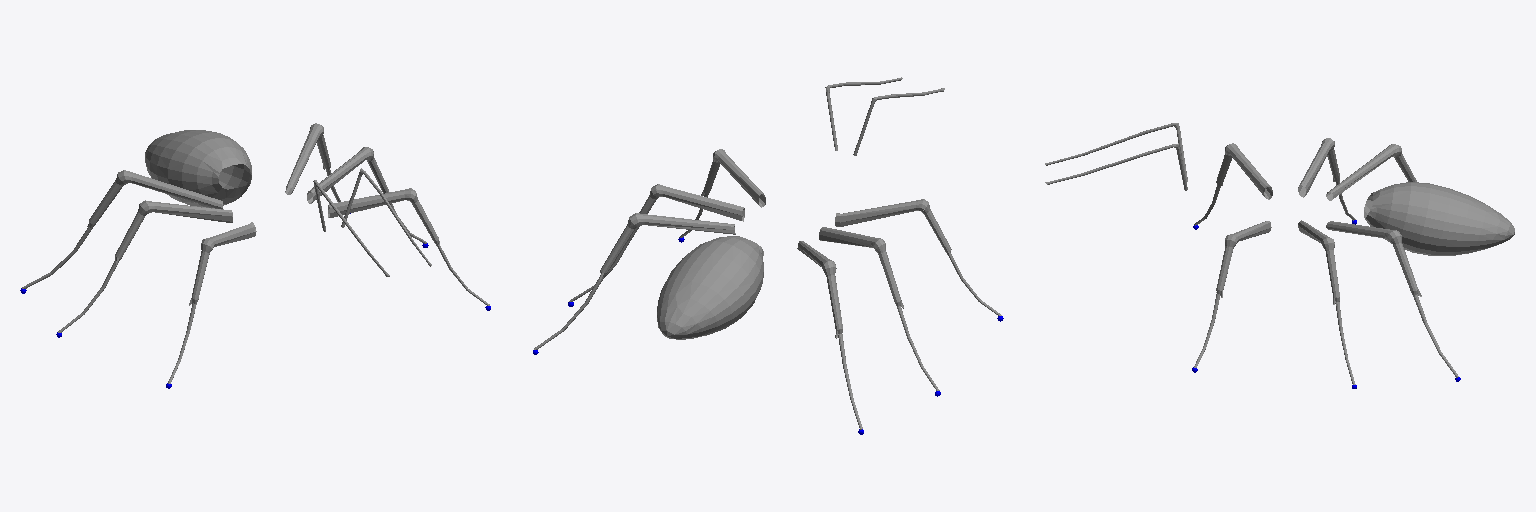
--- Facts derived from the render (not from the file) ---
The picture shows the robot from 3 angles, left to right: view 1: azimuth 30°, elevation 25°; view 2: azimuth 150°, elevation 25°; view 3: azimuth 270°, elevation 25°; orthographic projection.
Robot: articulated_ant — 80 links, 79 joints (72 revolute, 7 fixed); root link base_link; default pose: all joints at 0.
Visible links, largest first — view 1: Abdomen, RBThigh, RMThigh, LFThigh, LMThigh, LBThigh, RFThigh; view 2: Abdomen, LMThigh, LBThigh, RFThigh, LFThigh, RMThigh, RBShank; view 3: Abdomen, RBThigh, RFThigh, RMThigh, LBThigh, LBShank.
Boxes of the visible links, box(x1,y1,x2,y2) form: Abdomen: box(145, 130, 251, 207); RBThigh: box(118, 170, 222, 208); RMThigh: box(140, 200, 232, 222); LFThigh: box(328, 188, 416, 217); LMThigh: box(307, 147, 373, 203); LBThigh: box(285, 123, 323, 194); RFThigh: box(201, 222, 256, 249); Abdomen: box(657, 236, 763, 339); LMThigh: box(651, 184, 744, 221); LBThigh: box(629, 213, 735, 234); RFThigh: box(835, 199, 928, 226); LFThigh: box(713, 149, 765, 207); RMThigh: box(819, 227, 885, 250); RBShank: box(824, 267, 842, 332); Abdomen: box(1364, 182, 1514, 255); RBThigh: box(1326, 144, 1401, 200); RFThigh: box(1225, 143, 1272, 199); RMThigh: box(1298, 138, 1334, 197); LBThigh: box(1326, 221, 1401, 240); LBShank: box(1390, 236, 1419, 293).
Size in the robot's own frame: 0.7066 by 0.8426 by 0.3466 metres.
Meshes: 25 distinct files referenced, 23 mesh visuals loaded (23 binary STL); not drawn: 2 (reference not matched to a file when rendering).

robot.urdf — articulated_ant:
<?xml version="1.0"?>
<robot name="articulated_ant">

  <material name="Blue"> <!-- for spheres -->
    <color rgba="0 0 1 0.5"/>
  </material>
  <material name="White">
    <color rgba="1 1 1 1"/>
  </material>
  <material name="Gray">
    <color rgba="0.6 0.6 0.6 1"/>
  </material>

  <link name="base_link"/>
  <joint name="base_link_J" type="fixed">
      <parent link="base_link"/>
      <child link="Thorax"/>
      <origin rpy="0 0 0" xyz="0 0 0"/>
   </joint>

  <link name="Thorax">
      <inertial>
         <origin rpy="0 0 0" xyz="0 0 0"/>
         <mass value="1"/>
         <inertia ixx="0" ixy="0" ixz="0" iyy="0" iyz="0" izz="0"/>
      </inertial>
      <visual>
         <origin xyz="0 0 0" rpy="0 0 0"/>
         <geometry>
            <mesh filename="package://hpp-rbprm-corba/meshes/ant/Thorax.stl"/>
         </geometry>
         <material name="Gray"/>
      </visual>
      <collision>
         <origin xyz="0 0 0" rpy="0 0 0"/>
         <geometry>
            <mesh filename="package://hpp-rbprm-corba/meshes/ant/Thorax.stl"/>
         </geometry>
      </collision>
   </link>

   <link name="ThoraxAbdomen_J1"/>
   <link name="ThoraxAbdomen_J2"/>
   <link name="Abdomen">
      <inertial>
         <origin rpy="0 0 0" xyz="0 0 0"/>
         <mass value="0"/>
         <inertia ixx="0" ixy="0" ixz="0" iyy="0" iyz="0" izz="0"/>
      </inertial>
      <visual>
         <origin xyz="0 0 0" rpy="0 0 0"/>
         <geometry>
            <mesh filename="package://hpp-rbprm-corba/meshes/ant/Abdomen.stl"/>
         </geometry>
         <material name="Gray"/>
      </visual>
      <collision>
         <origin xyz="0 0 0" rpy="0 0 0"/>
         <geometry>
            <mesh filename="package://hpp-rbprm-corba/meshes/ant/Abdomen.stl"/>
         </geometry>
      </collision>
   </link>
   <link name="ThoraxHead_J1"/>
   <link name="ThoraxHead_J2"/>
   <link name="Head">
      <inertial>
         <origin rpy="0 0 0" xyz="0 0 0"/>
         <mass value="4.2276"/>
         <inertia ixx="0.0071027" ixy="-0.00059867" ixz="-2.9564e-05" iyy="0.0046194" iyz="6.6519e-05" izz="0.0080488"/>
      </inertial>
      <visual>
         <origin xyz="0 0 0" rpy="0 0 0"/>
         <geometry>
            <mesh filename="package://hpp-rbprm-corba/meshes/ant/Skull.stl"/>
         </geometry>
         <material name="Gray"/>
      </visual>
      <collision>
         <origin xyz="0 0 0" rpy="0 0 0"/>
         <geometry>
            <mesh filename="package://hpp-rbprm-corba/meshes/ant/Skull.stl"/>
         </geometry>
      </collision>
   </link>

   <link name="HeadLAntena_J1"/>
   <link name="HeadLAntena_J2"/>
   <link name="LAntena">
      <inertial>
         <origin rpy="0 0 0" xyz="0 0 0"/>
         <mass value="1"/>
         <inertia ixx="0.0071027" ixy="-0.00059867" ixz="-2.9564e-05" iyy="0.0046194" iyz="6.6519e-05" izz="0.0080488"/>
      </inertial>
      <visual>
         <origin xyz="0 0 0" rpy="0 0 0"/>
         <geometry>
            <mesh filename="package://hpp-rbprm-corba/meshes/ant/LAntena.stl"/>
         </geometry>
         <material name="Gray"/>
      </visual>
      <collision>
         <origin xyz="0 0 0" rpy="0 0 0"/>
         <geometry>
            <mesh filename="package://hpp-rbprm-corba/meshes/ant/LAntena.stl"/>
         </geometry>
      </collision>
   </link>

   <link name="HeadLAntenaFoot_J1"/>
   <link name="HeadLAntenaFoot_J2"/>
   <link name="LAntenaFoot">
      <inertial>
         <origin rpy="0 0 0" xyz="0 0 0"/>
         <mass value="1"/>
         <inertia ixx="0.0071027" ixy="-0.00059867" ixz="-2.9564e-05" iyy="0.0046194" iyz="6.6519e-05" izz="0.0080488"/>
      </inertial>
      <visual>
         <origin xyz="0 0 0" rpy="0 0 0"/>
         <geometry>
            <mesh filename="package://hpp-rbprm-corba/meshes/ant/LAntenaFoot.stl"/>
         </geometry>
         <material name="Gray"/>
      </visual>
      <collision>
         <origin xyz="0 0 0" rpy="0 0 0"/>
         <geometry>
            <mesh filename="package://hpp-rbprm-corba/meshes/ant/LAntenaFoot.stl"/>
         </geometry>
      </collision>
   </link>
   
   <link name="HeadRAntena_J1"/>
   <link name="HeadRAntena_J2"/>
   <link name="RAntena">
      <inertial>
         <origin rpy="0 0 0" xyz="0 0 0"/>
         <mass value="1"/>
         <inertia ixx="0.0071027" ixy="-0.00059867" ixz="-2.9564e-05" iyy="0.0046194" iyz="6.6519e-05" izz="0.0080488"/>
      </inertial>
      <visual>
         <origin xyz="0 0 0" rpy="0 0 0"/>
         <geometry>
            <mesh filename="package://hpp-rbprm-corba/meshes/ant/RAntena.stl"/>
         </geometry>
         <material name="Gray"/>
      </visual>
      <collision>
         <origin xyz="0 0 0" rpy="0 0 0"/>
         <geometry>
            <mesh filename="package://hpp-rbprm-corba/meshes/ant/RAntena.stl"/>
         </geometry>
      </collision>
   </link>

   <link name="HeadRAntenaFoot_J1"/>
   <link name="HeadRAntenaFoot_J2"/>
   <link name="RAntenaFoot">
      <inertial>
         <origin rpy="0 0 0" xyz="0 0 0"/>
         <mass value="1"/>
         <inertia ixx="0.0071027" ixy="-0.00059867" ixz="-2.9564e-05" iyy="0.0046194" iyz="6.6519e-05" izz="0.0080488"/>
      </inertial>
      <visual>
         <origin xyz="0 0 0" rpy="0 0 0"/>
         <geometry>
            <mesh filename="package://hpp-rbprm-corba/meshes/ant/RAntenaFoot.stl"/>
         </geometry>
         <material name="Gray"/>
      </visual>
      <collision>
         <origin xyz="0 0 0" rpy="0 0 0"/>
         <geometry>
            <mesh filename="package://hpp-rbprm-corba/meshes/ant/RAntenaFoot.stl"/>
         </geometry>
      </collision>
   </link>
   
   <!-- L = left, R = right, F = front, M = middle, B = back -->
   <link name="ThoraxLFThigh_J1"/>
   <link name="ThoraxLFThigh_J2"/>
   <link name="LFThigh">
      <inertial>
         <origin rpy="0 0 0" xyz="0 0 0"/>
         <mass value="1"/>
         <inertia ixx="0.0071027" ixy="-0.00059867" ixz="-2.9564e-05" iyy="0.0046194" iyz="6.6519e-05" izz="0.0080488"/>
      </inertial>
      <visual>
         <origin xyz="0 0 0" rpy="0 0 0"/>
         <geometry>
            <mesh filename="package://hpp-rbprm-corba/meshes/ant/LFThigh.stl"/>
         </geometry>
         <material name="Gray"/>
      </visual>
      <collision>
         <origin xyz="0 0 0" rpy="0 0 0"/>
         <geometry>
            <mesh filename="package://hpp-rbprm-corba/meshes/ant/LFThigh.stl"/>
         </geometry>
      </collision>
   </link>
   
   <link name="ThoraxLFShank_J1"/>
   <link name="ThoraxLFShank_J2"/>
   <link name="LFShank">
      <inertial>
         <origin rpy="0 0 0" xyz="0 0 0"/>
         <mass value="1"/>
         <inertia ixx="0.0071027" ixy="-0.00059867" ixz="-2.9564e-05" iyy="0.0046194" iyz="6.6519e-05" izz="0.0080488"/>
      </inertial>
      <visual>
         <origin xyz="0 0 0" rpy="0 0 0"/>
         <geometry>
            <mesh filename="package://hpp-rbprm-corba/meshes/ant/LFShank.stl"/>
         </geometry>
         <material name="Gray"/>
      </visual>
      <collision>
         <origin xyz="0 0 0" rpy="0 0 0"/>
         <geometry>
            <mesh filename="package://hpp-rbprm-corba/meshes/ant/LFShank.stl"/>
         </geometry>
      </collision>
   </link>
   
   <link name="ThoraxLFFoot_J1"/>
   <link name="ThoraxLFFoot_J2"/>
   <link name="LFFoot">
      <inertial>
         <origin rpy="0 0 0" xyz="0 0 0"/>
         <mass value="1"/>
         <inertia ixx="0.0071027" ixy="-0.00059867" ixz="-2.9564e-05" iyy="0.0046194" iyz="6.6519e-05" izz="0.0080488"/>
      </inertial>
      <visual>
         <origin xyz="0 0 0" rpy="0 0 0"/>
         <geometry>
            <mesh filename="package://hpp-rbprm-corba/meshes/ant/LFFoot.stl"/>
         </geometry>
         <material name="Gray"/>
      </visual>
      <collision>
         <origin xyz="0 0 0" rpy="0 0 0"/>
         <geometry>
            <mesh filename="package://hpp-rbprm-corba/meshes/ant/LFFoot.stl"/>
         </geometry>
      </collision>
   </link>
   
   <link name="ThoraxLMThigh_J1"/>
   <link name="ThoraxLMThigh_J2"/>
   <link name="LMThigh">
      <inertial>
         <origin rpy="0 0 0" xyz="0 0 0"/>
         <mass value="1"/>
         <inertia ixx="0.0071027" ixy="-0.00059867" ixz="-2.9564e-05" iyy="0.0046194" iyz="6.6519e-05" izz="0.0080488"/>
      </inertial>
      <visual>
         <origin xyz="0 0 0" rpy="0 0 0"/>
         <geometry>
            <mesh filename="package://hpp-rbprm-corba/meshes/ant/LMThigh.stl"/>
         </geometry>
         <material name="Gray"/>
      </visual>
      <collision>
         <origin xyz="0 0 0" rpy="0 0 0"/>
         <geometry>
            <mesh filename="package://hpp-rbprm-corba/meshes/ant/LMThigh.stl"/>
         </geometry>
      </collision>
   </link>
   
   <link name="ThoraxLMShank_J1"/>
   <link name="ThoraxLMShank_J2"/>
   <link name="LMShank">
      <inertial>
         <origin rpy="0 0 0" xyz="0 0 0"/>
         <mass value="1"/>
         <inertia ixx="0.0071027" ixy="-0.00059867" ixz="-2.9564e-05" iyy="0.0046194" iyz="6.6519e-05" izz="0.0080488"/>
      </inertial>
      <visual>
         <origin xyz="0 0 0" rpy="0 0 0"/>
         <geometry>
            <mesh filename="package://hpp-rbprm-corba/meshes/ant/LMShank.stl"/>
         </geometry>
         <material name="Gray"/>
      </visual>
      <collision>
         <origin xyz="0 0 0" rpy="0 0 0"/>
         <geometry>
            <mesh filename="package://hpp-rbprm-corba/meshes/ant/LMShank.stl"/>
         </geometry>
      </collision>
   </link>
   
   <link name="ThoraxLMFoot_J1"/>
   <link name="ThoraxLMFoot_J2"/>
   <link name="LMFoot">
      <inertial>
         <origin rpy="0 0 0" xyz="0 0 0"/>
         <mass value="1"/>
         <inertia ixx="0.0071027" ixy="-0.00059867" ixz="-2.9564e-05" iyy="0.0046194" iyz="6.6519e-05" izz="0.0080488"/>
      </inertial>
      <visual>
         <origin xyz="0 0 0" rpy="0 0 0"/>
         <geometry>
            <mesh filename="package://hpp-rbprm-corba/meshes/ant/LMFoot.stl"/>
         </geometry>
         <material name="Gray"/>
      </visual>
      <collision>
         <origin xyz="0 0 0" rpy="0 0 0"/>
         <geometry>
            <mesh filename="package://hpp-rbprm-corba/meshes/ant/LMFoot.stl"/>
         </geometry>
      </collision>
   </link>
   
   <link name="ThoraxLBThigh_J1"/>
   <link name="ThoraxLBThigh_J2"/>
   <link name="LBThigh">
      <inertial>
         <origin rpy="0 0 0" xyz="0 0 0"/>
         <mass value="1"/>
         <inertia ixx="0.0071027" ixy="-0.00059867" ixz="-2.9564e-05" iyy="0.0046194" iyz="6.6519e-05" izz="0.0080488"/>
      </inertial>
      <visual>
         <origin xyz="0 0 0" rpy="0 0 0"/>
         <geometry>
            <mesh filename="package://hpp-rbprm-corba/meshes/ant/LBThigh.stl"/>
         </geometry>
         <material name="Gray"/>
      </visual>
      <collision>
         <origin xyz="0 0 0" rpy="0 0 0"/>
         <geometry>
            <mesh filename="package://hpp-rbprm-corba/meshes/ant/LBThigh.stl"/>
         </geometry>
      </collision>
   </link>
   
   <link name="ThoraxLBShank_J1"/>
   <link name="ThoraxLBShank_J2"/>
   <link name="LBShank">
      <inertial>
         <origin rpy="0 0 0" xyz="0 0 0"/>
         <mass value="1"/>
         <inertia ixx="0.0071027" ixy="-0.00059867" ixz="-2.9564e-05" iyy="0.0046194" iyz="6.6519e-05" izz="0.0080488"/>
      </inertial>
      <visual>
         <origin xyz="0 0 0" rpy="0 0 0"/>
         <geometry>
            <mesh filename="package://hpp-rbprm-corba/meshes/ant/LBShank.stl"/>
         </geometry>
         <material name="Gray"/>
      </visual>
      <collision>
         <origin xyz="0 0 0" rpy="0 0 0"/>
         <geometry>
            <mesh filename="package://hpp-rbprm-corba/meshes/ant/LBShank.stl"/>
         </geometry>
      </collision>
   </link>
   
   <link name="ThoraxLBFoot_J1"/>
   <link name="ThoraxLBFoot_J2"/>
   <link name="LBFoot">
      <inertial>
         <origin rpy="0 0 0" xyz="0 0 0"/>
         <mass value="1"/>
         <inertia ixx="0.0071027" ixy="-0.00059867" ixz="-2.9564e-05" iyy="0.0046194" iyz="6.6519e-05" izz="0.0080488"/>
      </inertial>
      <visual>
         <origin xyz="0 0 0" rpy="0 0 0"/>
         <geometry>
            <mesh filename="package://hpp-rbprm-corba/meshes/ant/LBFoot.stl"/>
         </geometry>
         <material name="Gray"/>
      </visual>
      <collision>
         <origin xyz="0 0 0" rpy="0 0 0"/>
         <geometry>
            <mesh filename="package://hpp-rbprm-corba/meshes/ant/LBFoot.stl"/>
         </geometry>
      </collision>
   </link>
   
      <link name="ThoraxRFThigh_J1"/>
   <link name="ThoraxRFThigh_J2"/>
   <link name="RFThigh">
      <inertial>
         <origin rpy="0 0 0" xyz="0 0 0"/>
         <mass value="1"/>
         <inertia ixx="0.0071027" ixy="-0.00059867" ixz="-2.9564e-05" iyy="0.0046194" iyz="6.6519e-05" izz="0.0080488"/>
      </inertial>
      <visual>
         <origin xyz="0 0 0" rpy="0 0 0"/>
         <geometry>
            <mesh filename="package://hpp-rbprm-corba/meshes/ant/RFThigh.stl"/>
         </geometry>
         <material name="Gray"/>
      </visual>
      <collision>
         <origin xyz="0 0 0" rpy="0 0 0"/>
         <geometry>
            <mesh filename="package://hpp-rbprm-corba/meshes/ant/RFThigh.stl"/>
         </geometry>
      </collision>
   </link>
   
   <link name="ThoraxRFShank_J1"/>
   <link name="ThoraxRFShank_J2"/>
   <link name="RFShank">
      <inertial>
         <origin rpy="0 0 0" xyz="0 0 0"/>
         <mass value="1"/>
         <inertia ixx="0.0071027" ixy="-0.00059867" ixz="-2.9564e-05" iyy="0.0046194" iyz="6.6519e-05" izz="0.0080488"/>
      </inertial>
      <visual>
         <origin xyz="0 0 0" rpy="0 0 0"/>
         <geometry>
            <mesh filename="package://hpp-rbprm-corba/meshes/ant/RFShank.stl"/>
         </geometry>
         <material name="Gray"/>
      </visual>
      <collision>
         <origin xyz="0 0 0" rpy="0 0 0"/>
         <geometry>
            <mesh filename="package://hpp-rbprm-corba/meshes/ant/RFShank.stl"/>
         </geometry>
      </collision>
   </link>
   
   <link name="ThoraxRFFoot_J1"/>
   <link name="ThoraxRFFoot_J2"/>
   <link name="RFFoot">
      <inertial>
         <origin rpy="0 0 0" xyz="0 0 0"/>
         <mass value="1"/>
         <inertia ixx="0.0071027" ixy="-0.00059867" ixz="-2.9564e-05" iyy="0.0046194" iyz="6.6519e-05" izz="0.0080488"/>
      </inertial>
      <visual>
         <origin xyz="0 0 0" rpy="0 0 0"/>
         <geometry>
            <mesh filename="package://hpp-rbprm-corba/meshes/ant/RFFoot.stl"/>
         </geometry>
         <material name="Gray"/>
      </visual>
      <collision>
         <origin xyz="0 0 0" rpy="0 0 0"/>
         <geometry>
            <mesh filename="package://hpp-rbprm-corba/meshes/ant/RFFoot.stl"/>
         </geometry>
      </collision>
   </link>
   
   <link name="ThoraxRMThigh_J1"/>
   <link name="ThoraxRMThigh_J2"/>
   <link name="RMThigh">
      <inertial>
         <origin rpy="0 0 0" xyz="0 0 0"/>
         <mass value="1"/>
         <inertia ixx="0.0071027" ixy="-0.00059867" ixz="-2.9564e-05" iyy="0.0046194" iyz="6.6519e-05" izz="0.0080488"/>
      </inertial>
      <visual>
         <origin xyz="0 0 0" rpy="0 0 0"/>
         <geometry>
            <mesh filename="package://hpp-rbprm-corba/meshes/ant/RMThigh.stl"/>
         </geometry>
         <material name="Gray"/>
      </visual>
      <collision>
         <origin xyz="0 0 0" rpy="0 0 0"/>
         <geometry>
            <mesh filename="package://hpp-rbprm-corba/meshes/ant/RMThigh.stl"/>
         </geometry>
      </collision>
   </link>
   
   <link name="ThoraxRMShank_J1"/>
   <link name="ThoraxRMShank_J2"/>
   <link name="RMShank">
      <inertial>
         <origin rpy="0 0 0" xyz="0 0 0"/>
         <mass value="1"/>
         <inertia ixx="0.0071027" ixy="-0.00059867" ixz="-2.9564e-05" iyy="0.0046194" iyz="6.6519e-05" izz="0.0080488"/>
      </inertial>
      <visual>
         <origin xyz="0 0 0" rpy="0 0 0"/>
         <geometry>
            <mesh filename="package://hpp-rbprm-corba/meshes/ant/RMShank.stl"/>
         </geometry>
         <material name="Gray"/>
      </visual>
      <collision>
         <origin xyz="0 0 0" rpy="0 0 0"/>
         <geometry>
            <mesh filename="package://hpp-rbprm-corba/meshes/ant/RMShank.stl"/>
         </geometry>
      </collision>
   </link>
   
   <link name="ThoraxRMFoot_J1"/>
   <link name="ThoraxRMFoot_J2"/>
   <link name="RMFoot">
      <inertial>
         <origin rpy="0 0 0" xyz="0 0 0"/>
         <mass value="1"/>
         <inertia ixx="0.0071027" ixy="-0.00059867" ixz="-2.9564e-05" iyy="0.0046194" iyz="6.6519e-05" izz="0.0080488"/>
      </inertial>
      <visual>
         <origin xyz="0 0 0" rpy="0 0 0"/>
         <geometry>
            <mesh filename="package://hpp-rbprm-corba/meshes/ant/RMFoot.stl"/>
         </geometry>
         <material name="Gray"/>
      </visual>
      <collision>
         <origin xyz="0 0 0" rpy="0 0 0"/>
         <geometry>
            <mesh filename="package://hpp-rbprm-corba/meshes/ant/RMFoot.stl"/>
         </geometry>
      </collision>
   </link>
   
   <link name="ThoraxRBThigh_J1"/>
   <link name="ThoraxRBThigh_J2"/>
   <link name="RBThigh">
      <inertial>
         <origin rpy="0 0 0" xyz="0 0 0"/>
         <mass value="1"/>
         <inertia ixx="0.0071027" ixy="-0.00059867" ixz="-2.9564e-05" iyy="0.0046194" iyz="6.6519e-05" izz="0.0080488"/>
      </inertial>
      <visual>
         <origin xyz="0 0 0" rpy="0 0 0"/>
         <geometry>
            <mesh filename="package://hpp-rbprm-corba/meshes/ant/RBThigh.stl"/>
         </geometry>
         <material name="Gray"/>
      </visual>
      <collision>
         <origin xyz="0 0 0" rpy="0 0 0"/>
         <geometry>
            <mesh filename="package://hpp-rbprm-corba/meshes/ant/RBThigh.stl"/>
         </geometry>
      </collision>
   </link>
   
   <link name="ThoraxRBShank_J1"/>
   <link name="ThoraxRBShank_J2"/>
   <link name="RBShank">
      <inertial>
         <origin rpy="0 0 0" xyz="0 0 0"/>
         <mass value="1"/>
         <inertia ixx="0.0071027" ixy="-0.00059867" ixz="-2.9564e-05" iyy="0.0046194" iyz="6.6519e-05" izz="0.0080488"/>
      </inertial>
      <visual>
         <origin xyz="0 0 0" rpy="0 0 0"/>
         <geometry>
            <mesh filename="package://hpp-rbprm-corba/meshes/ant/RBShank.stl"/>
         </geometry>
         <material name="Gray"/>
      </visual>
      <collision>
         <origin xyz="0 0 0" rpy="0 0 0"/>
         <geometry>
            <mesh filename="package://hpp-rbprm-corba/meshes/ant/RBShank.stl"/>
         </geometry>
      </collision>
   </link>
   
   <link name="ThoraxRBFoot_J1"/>
   <link name="ThoraxRBFoot_J2"/>
   <link name="RBFoot">
      <inertial>
         <origin rpy="0 0 0" xyz="0 0 0"/>
         <mass value="1"/>
         <inertia ixx="0.0071027" ixy="-0.00059867" ixz="-2.9564e-05" iyy="0.0046194" iyz="6.6519e-05" izz="0.0080488"/>
      </inertial>
      <visual>
         <origin xyz="0 0 0" rpy="0 0 0"/>
         <geometry>
            <mesh filename="package://hpp-rbprm-corba/meshes/ant/RBFoot.stl"/>
         </geometry>
         <material name="Gray"/>
      </visual>
      <collision>
         <origin xyz="0 0 0" rpy="0 0 0"/>
         <geometry>
            <mesh filename="package://hpp-rbprm-corba/meshes/ant/RBFoot.stl"/>
         </geometry>
      </collision>
   </link>

   <!-- end-effector spheres -->
  <link name="LFFootSphere">
      <visual>
         <origin xyz="0 0 0" rpy="0 0 0"/>
         <geometry>
            <sphere radius="0.005"/>
         </geometry>
         <material name="Blue"/>
      </visual>
      <collision>
         <origin xyz="0 0 0" rpy="0 0 0"/>
         <geometry>
            <sphere radius="0.005"/>
         </geometry>
      </collision>
   </link>
  <link name="LMFootSphere">
      <visual>
         <origin xyz="0 0 0" rpy="0 0 0"/>
         <geometry>
            <sphere radius="0.005"/>
         </geometry>
         <material name="Blue"/>
      </visual>
      <collision>
         <origin xyz="0 0 0" rpy="0 0 0"/>
         <geometry>
            <sphere radius="0.005"/>
         </geometry>
      </collision>
   </link>
  <link name="LBFootSphere">
      <visual>
         <origin xyz="0 0 0" rpy="0 0 0"/>
         <geometry>
            <sphere radius="0.005"/>
         </geometry>
         <material name="Blue"/>
      </visual>
      <collision>
         <origin xyz="0 0 0" rpy="0 0 0"/>
         <geometry>
            <sphere radius="0.005"/>
         </geometry>
      </collision>
   </link>
  <link name="RFFootSphere">
      <visual>
         <origin xyz="0 0 0" rpy="0 0 0"/>
         <geometry>
            <sphere radius="0.005"/>
         </geometry>
         <material name="Blue"/>
      </visual>
      <collision>
         <origin xyz="0 0 0" rpy="0 0 0"/>
         <geometry>
            <sphere radius="0.005"/>
         </geometry>
      </collision>
   </link>
  <link name="RMFootSphere">
      <visual>
         <origin xyz="0 0 0" rpy="0 0 0"/>
         <geometry>
            <sphere radius="0.005"/>
         </geometry>
         <material name="Blue"/>
      </visual>
      <collision>
         <origin xyz="0 0 0" rpy="0 0 0"/>
         <geometry>
            <sphere radius="0.005"/>
         </geometry>
      </collision>
   </link>
  <link name="RBFootSphere">
      <visual>
         <origin xyz="0 0 0" rpy="0 0 0"/>
         <geometry>
            <sphere radius="0.005"/>
         </geometry>
         <material name="Blue"/>
      </visual>
      <collision>
         <origin xyz="0 0 0" rpy="0 0 0"/>
         <geometry>
            <sphere radius="0.005"/>
         </geometry>
      </collision>
   </link>

   <!-- JOINTS -->
  <joint name="ThoraxAbdomen_J1" type="revolute">
      <parent link="Thorax"/>
      <child link="ThoraxAbdomen_J1"/>
      <origin rpy="0 0 0" xyz="0 0.15853 0.19806"/>
      <axis xyz="1 0 0"/>
      <limit effort="0" lower="-0.2" upper="0.2" velocity="1.0"/>
   </joint>
   <joint name="ThoraxAbdomen_J2" type="revolute">
      <parent link="ThoraxAbdomen_J1"/>
      <child link="ThoraxAbdomen_J2"/>
      <origin rpy="0 0 0" xyz="0 0 0"/>
      <axis xyz="0 1 0"/>
      <limit effort="0" lower="-0.2" upper="0.2" velocity="1.0"/>
   </joint>
   <joint name="Abdomen" type="revolute">
      <parent link="ThoraxAbdomen_J1"/>
      <child link="Abdomen"/>
      <origin rpy="0 0 0" xyz="0 0 0"/>
      <axis xyz="0 0 1"/>
      <limit effort="0" lower="-0.2" upper="0.2" velocity="1.0"/>
   </joint>
   <joint name="ThoraxHead_J1" type="revolute">
      <parent link="Thorax"/>
      <child link="ThoraxHead_J1"/>
      <origin rpy="0 0 0" xyz="0 -0.06471 0.21279"/>
      <axis xyz="1 0 0"/>
      <limit effort="0" lower="-0.2" upper="0.2" velocity="1.0"/>
   </joint>
   <joint name="ThoraxHead_J2" type="revolute">
      <parent link="ThoraxHead_J1"/>
      <child link="ThoraxHead_J2"/>
      <origin rpy="0 0 0" xyz="0 0 0"/>
      <axis xyz="0 1 0"/>
      <limit effort="0" lower="-0.2" upper="0.2" velocity="1.0"/>
   </joint>
   <joint name="Head" type="revolute">
      <parent link="ThoraxHead_J2"/>
      <child link="Head"/>
      <origin rpy="0 0 0" xyz="0 0 0"/>
      <axis xyz="0 0 1"/>
      <limit effort="0" lower="-0.2" upper="0.2" velocity="1.0"/>
   </joint>
   
   <joint name="HeadLAntena_J1" type="revolute">
      <parent link="Head"/>
      <child link="HeadLAntena_J1"/>
      <origin rpy="0 0 0" xyz="0.0176 -0.1027 0.0225"/>
      <axis xyz="1 0 0"/>
      <limit effort="0" lower="-0.4" upper="0.4" velocity="1.0"/>
   </joint>
   <joint name="HeadLAntena_J2" type="revolute">
      <parent link="HeadLAntena_J1"/>
      <child link="HeadLAntena_J2"/>
      <origin rpy="0 0 0" xyz="0 0 0"/>
      <axis xyz="0 1 0"/>
      <limit effort="0" lower="-0.4" upper="0.4" velocity="1.0"/>
   </joint>
   <joint name="LAntena" type="revolute">
      <parent link="HeadLAntena_J2"/>
      <child link="LAntena"/>
      <origin rpy="0 0 0" xyz="0 0 0"/>
      <axis xyz="0 0 1"/>
      <limit effort="0" lower="-0.2" upper="0.2" velocity="1.0"/>
   </joint>
   <joint name="HeadLAntenaFoot_J1" type="revolute">
      <parent link="LAntena"/>
      <child link="HeadLAntenaFoot_J1"/>
      <origin rpy="0 0 0" xyz="0.0267 -0.0198 0.1006"/>
      <axis xyz="1 0 0"/>
      <limit effort="0" lower="-0.4" upper="0.4" velocity="1.0"/>
   </joint>
   <joint name="HeadLAntenaFoot_J2" type="revolute">
      <parent link="HeadLAntenaFoot_J1"/>
      <child link="HeadLAntenaFoot_J2"/>
      <origin rpy="0 0 0" xyz="0 0 0"/>
      <axis xyz="0 1 0"/>
      <limit effort="0" lower="-0.4" upper="0.4" velocity="1.0"/>
   </joint>
   <joint name="LAntenaFoot" type="revolute">
      <parent link="HeadLAntenaFoot_J2"/>
      <child link="LAntenaFoot"/>
      <origin rpy="0 0 0" xyz="0 0 0"/>
      <axis xyz="0 0 1"/>
      <limit effort="0" lower="-0.2" upper="0.2" velocity="1.0"/>
   </joint>
   
   <joint name="HeadRAntena_J1" type="revolute">
      <parent link="Head"/>
      <child link="HeadRAntena_J1"/>
      <origin rpy="0 0 0" xyz="-0.0168 -0.1029 0.0226"/>
      <axis xyz="1 0 0"/>
      <limit effort="0" lower="-0.4" upper="0.4" velocity="1.0"/>
   </joint>
   <joint name="HeadRAntena_J2" type="revolute">
      <parent link="HeadRAntena_J1"/>
      <child link="HeadRAntena_J2"/>
      <origin rpy="0 0 0" xyz="0 0 0"/>
      <axis xyz="0 1 0"/>
      <limit effort="0" lower="-0.4" upper="0.4" velocity="1.0"/>
   </joint>
   <joint name="RAntena" type="revolute">
      <parent link="HeadRAntena_J2"/>
      <child link="RAntena"/>
      <origin rpy="0 0 0" xyz="0 0 0"/>
      <axis xyz="0 0 1"/>
      <limit effort="0" lower="-0.2" upper="0.2" velocity="1.0"/>
   </joint>
   <joint name="HeadRAntenaFoot_J1" type="revolute">
      <parent link="RAntena"/>
      <child link="HeadRAntenaFoot_J1"/>
      <origin rpy="0 0 0" xyz="-0.0279 -0.0202 0.1006"/>
      <axis xyz="1 0 0"/>
      <limit effort="0" lower="-0.4" upper="0.4" velocity="1.0"/>
   </joint>
   <joint name="HeadRAntenaFoot_J2" type="revolute">
      <parent link="HeadRAntenaFoot_J1"/>
      <child link="HeadRAntenaFoot_J2"/>
      <origin rpy="0 0 0" xyz="0 0 0"/>
      <axis xyz="0 1 0"/>
      <limit effort="0" lower="-0.4" upper="0.4" velocity="1.0"/>
   </joint>
   <joint name="RAntenaFoot" type="revolute">
      <parent link="HeadRAntenaFoot_J2"/>
      <child link="RAntenaFoot"/>
      <origin rpy="0 0 0" xyz="0 0 0"/>
      <axis xyz="0 0 1"/>
      <limit effort="0" lower="-0.2" upper="0.2" velocity="1.0"/>
   </joint>
   
   <!-- left side -->
   <joint name="ThoraxLFThigh_J1" type="revolute">
      <parent link="Thorax"/>
      <child link="ThoraxLFThigh_J1"/>
      <origin rpy="0 0 0" xyz="0.0743 -0.0223 0.1894"/>
      <axis xyz="1 0 0"/>
      <limit effort="0" lower="-0.4" upper="0.4" velocity="1.0"/>
   </joint>
   <joint name="ThoraxLFThigh_J2" type="revolute">
      <parent link="ThoraxLFThigh_J1"/>
      <child link="ThoraxLFThigh_J2"/>
      <origin rpy="0 0 0" xyz="0 0 0"/>
      <axis xyz="0 1 0"/>
      <limit effort="0" lower="-0.4" upper="0.4" velocity="1.0"/>
   </joint>
   <joint name="LFThigh" type="revolute">
      <parent link="ThoraxLFThigh_J2"/>
      <child link="LFThigh"/>
      <origin rpy="0 0 0" xyz="0 0 0"/>
      <axis xyz="0 0 1"/>
      <limit effort="0" lower="-0.2" upper="0.2" velocity="1.0"/>
   </joint>
   <joint name="ThoraxLFShank_J1" type="revolute">
      <parent link="LFThigh"/>
      <child link="ThoraxLFShank_J1"/>
      <origin rpy="0 0 0" xyz="0.1217 -0.0662 0.0268"/>
      <axis xyz="1 0 0"/>
      <limit effort="0" lower="-0.4" upper="0.4" velocity="1.0"/>
   </joint>
   <joint name="ThoraxLFShank_J2" type="revolute">
      <parent link="ThoraxLFShank_J1"/>
      <child link="ThoraxLFShank_J2"/>
      <origin rpy="0 0 0" xyz="0 0 0"/>
      <axis xyz="0 1 0"/>
      <limit effort="0" lower="-0.4" upper="0.4" velocity="1.0"/>
   </joint>
   <joint name="LFShank" type="revolute">
      <parent link="ThoraxLFShank_J2"/>
      <child link="LFShank"/>
      <origin rpy="0 0 0" xyz="0 0 0"/>
      <axis xyz="0 0 1"/>
      <limit effort="0" lower="-0.2" upper="0.2" velocity="1.0"/>
   </joint>
   <joint name="ThoraxLFFoot_J1" type="revolute">
      <parent link="LFShank"/>
      <child link="ThoraxLFFoot_J1"/>
      <origin rpy="0 0 0" xyz="0.0349 -0.0208 -0.0839"/>
      <axis xyz="1 0 0"/>
      <limit effort="0" lower="-0.4" upper="0.4" velocity="1.0"/>
   </joint>
   <joint name="ThoraxLFFoot_J2" type="revolute">
      <parent link="ThoraxLFFoot_J1"/>
      <child link="ThoraxLFFoot_J2"/>
      <origin rpy="0 0 0" xyz="0 0 0"/>
      <axis xyz="0 1 0"/>
      <limit effort="0" lower="-0.4" upper="0.4" velocity="1.0"/>
   </joint>
   <joint name="LFFoot" type="revolute">
      <parent link="ThoraxLFFoot_J2"/>
      <child link="LFFoot"/>
      <origin rpy="0 0 0" xyz="0 0 0"/>
      <axis xyz="0 0 1"/>
      <limit effort="0" lower="-0.2" upper="0.2" velocity="1.0"/>
   </joint>
   
   <joint name="ThoraxLMThigh_J1" type="revolute">
      <parent link="Thorax"/>
      <child link="ThoraxLMThigh_J1"/>
      <origin rpy="0 0 0" xyz="0.07469 0.03933 0.19123"/>
      <axis xyz="1 0 0"/>
      <limit effort="0" lower="-0.4" upper="0.4" velocity="1.0"/>
   </joint>
   <joint name="ThoraxLMThigh_J2" type="revolute">
      <parent link="ThoraxLMThigh_J1"/>
      <child link="ThoraxLMThigh_J2"/>
      <origin rpy="0 0 0" xyz="0 0 0"/>
      <axis xyz="0 1 0"/>
      <limit effort="0" lower="-0.4" upper="0.4" velocity="1.0"/>
   </joint>
   <joint name="LMThigh" type="revolute">
      <parent link="ThoraxLMThigh_J2"/>
      <child link="LMThigh"/>
      <origin rpy="0 0 0" xyz="0 0 0"/>
      <axis xyz="0 0 1"/>
      <limit effort="0" lower="-0.2" upper="0.2" velocity="1.0"/>
   </joint>
   <joint name="ThoraxLMShank_J1" type="revolute">
      <parent link="LMThigh"/>
      <child link="ThoraxLMShank_J1"/>
      <origin rpy="0 0 0" xyz="0.1391 0.0483 0.0267"/>
      <axis xyz="1 0 0"/>
      <limit effort="0" lower="-0.4" upper="0.4" velocity="1.0"/>
   </joint>
   <joint name="ThoraxLMShank_J2" type="revolute">
      <parent link="ThoraxLMShank_J1"/>
      <child link="ThoraxLMShank_J2"/>
      <origin rpy="0 0 0" xyz="0 0 0"/>
      <axis xyz="0 1 0"/>
      <limit effort="0" lower="-0.4" upper="0.4" velocity="1.0"/>
   </joint>
   <joint name="LMShank" type="revolute">
      <parent link="ThoraxLMShank_J2"/>
      <child link="LMShank"/>
      <origin rpy="0 0 0" xyz="0 0 0"/>
      <axis xyz="0 0 1"/>
      <limit effort="0" lower="-0.2" upper="0.2" velocity="1.0"/>
   </joint>
   <joint name="ThoraxLMFoot_J1" type="revolute">
      <parent link="LMShank"/>
      <child link="ThoraxLMFoot_J1"/>
      <origin rpy="0 0 0" xyz="0.0420 0.0142 -0.0892"/>
      <axis xyz="1 0 0"/>
      <limit effort="0" lower="-0.4" upper="0.4" velocity="1.0"/>
   </joint>
   <joint name="ThoraxLMFoot_J2" type="revolute">
      <parent link="ThoraxLMFoot_J1"/>
      <child link="ThoraxLMFoot_J2"/>
      <origin rpy="0 0 0" xyz="0 0 0"/>
      <axis xyz="0 1 0"/>
      <limit effort="0" lower="-0.4" upper="0.4" velocity="1.0"/>
   </joint>
   <joint name="LMFoot" type="revolute">
      <parent link="ThoraxLMFoot_J2"/>
      <child link="LMFoot"/>
      <origin rpy="0 0 0" xyz="0 0 0"/>
      <axis xyz="0 0 1"/>
      <limit effort="0" lower="-0.2" upper="0.2" velocity="1.0"/>
   </joint>
   
   <joint name="ThoraxLBThigh_J1" type="revolute">
      <parent link="Thorax"/>
      <child link="ThoraxLBThigh_J1"/>
      <origin rpy="0 0 0" xyz="0.06238 0.08879 0.18588"/>
      <axis xyz="1 0 0"/>
      <limit effort="0" lower="-0.4" upper="0.4" velocity="1.0"/>
   </joint>
   <joint name="ThoraxLBThigh_J2" type="revolute">
      <parent link="ThoraxLBThigh_J1"/>
      <child link="ThoraxLBThigh_J2"/>
      <origin rpy="0 0 0" xyz="0 0 0"/>
      <axis xyz="0 1 0"/>
      <limit effort="0" lower="-0.4" upper="0.4" velocity="1.0"/>
   </joint>
   <joint name="LBThigh" type="revolute">
      <parent link="ThoraxLBThigh_J2"/>
      <child link="LBThigh"/>
      <origin rpy="0 0 0" xyz="0 0 0"/>
      <axis xyz="0 0 1"/>
      <limit effort="0" lower="-0.2" upper="0.2" velocity="1.0"/>
   </joint>
   <joint name="ThoraxLBShank_J1" type="revolute">
      <parent link="LBThigh"/>
      <child link="ThoraxLBShank_J1"/>
      <origin rpy="0 0 0" xyz="0.1238 0.1183 0.0330"/>
      <axis xyz="1 0 0"/>
      <limit effort="0" lower="-0.4" upper="0.4" velocity="1.0"/>
   </joint>
   <joint name="ThoraxLBShank_J2" type="revolute">
      <parent link="ThoraxLBShank_J1"/>
      <child link="ThoraxLBShank_J2"/>
      <origin rpy="0 0 0" xyz="0 0 0"/>
      <axis xyz="0 1 0"/>
      <limit effort="0" lower="-0.4" upper="0.4" velocity="1.0"/>
   </joint>
   <joint name="LBShank" type="revolute">
      <parent link="ThoraxLBShank_J2"/>
      <child link="LBShank"/>
      <origin rpy="0 0 0" xyz="0 0 0"/>
      <axis xyz="0 0 1"/>
      <limit effort="0" lower="-0.2" upper="0.2" velocity="1.0"/>
   </joint>
   <joint name="ThoraxLBFoot_J1" type="revolute">
      <parent link="LBShank"/>
      <child link="ThoraxLBFoot_J1"/>
      <origin rpy="0 0 0" xyz="0.0387 0.0341 -0.0900"/>
      <axis xyz="1 0 0"/>
      <limit effort="0" lower="-0.4" upper="0.4" velocity="1.0"/>
   </joint>
   <joint name="ThoraxLBFoot_J2" type="revolute">
      <parent link="ThoraxLBFoot_J1"/>
      <child link="ThoraxLBFoot_J2"/>
      <origin rpy="0 0 0" xyz="0 0 0"/>
      <axis xyz="0 1 0"/>
      <limit effort="0" lower="-0.4" upper="0.4" velocity="1.0"/>
   </joint>
   <joint name="LBFoot" type="revolute">
      <parent link="ThoraxLBFoot_J2"/>
      <child link="LBFoot"/>
      <origin rpy="0 0 0" xyz="0 0 0"/>
      <axis xyz="0 0 1"/>
      <limit effort="0" lower="-0.2" upper="0.2" velocity="1.0"/>
   </joint>
   
   <!-- right side -->
   <joint name="ThoraxRFThigh_J1" type="revolute">
      <parent link="Thorax"/>
      <child link="ThoraxRFThigh_J1"/>
      <origin rpy="0 0 0" xyz="-0.07030 -0.02046 0.18987"/>
      <axis xyz="1 0 0"/>
      <limit effort="0" lower="-0.4" upper="0.4" velocity="1.0"/>
   </joint>
   <joint name="ThoraxRFThigh_J2" type="revolute">
      <parent link="ThoraxRFThigh_J1"/>
      <child link="ThoraxRFThigh_J2"/>
      <origin rpy="0 0 0" xyz="0 0 0"/>
      <axis xyz="0 1 0"/>
      <limit effort="0" lower="-0.4" upper="0.4" velocity="1.0"/>
   </joint>
   <joint name="RFThigh" type="revolute">
      <parent link="ThoraxRFThigh_J2"/>
      <child link="RFThigh"/>
      <origin rpy="0 0 0" xyz="0 0 0"/>
      <axis xyz="0 0 1"/>
      <limit effort="0" lower="-0.2" upper="0.2" velocity="1.0"/>
   </joint>
   <joint name="ThoraxRFShank_J1" type="revolute">
      <parent link="RFThigh"/>
      <child link="ThoraxRFShank_J1"/>
      <origin rpy="0 0 0" xyz="-0.1258 -0.0680 0.0258"/>
      <axis xyz="1 0 0"/>
      <limit effort="0" lower="-0.4" upper="0.4" velocity="1.0"/>
   </joint>
   <joint name="ThoraxRFShank_J2" type="revolute">
      <parent link="ThoraxRFShank_J1"/>
      <child link="ThoraxRFShank_J2"/>
      <origin rpy="0 0 0" xyz="0 0 0"/>
      <axis xyz="0 1 0"/>
      <limit effort="0" lower="-0.4" upper="0.4" velocity="1.0"/>
   </joint>
   <joint name="RFShank" type="revolute">
      <parent link="ThoraxRFShank_J2"/>
      <child link="RFShank"/>
      <origin rpy="0 0 0" xyz="0 0 0"/>
      <axis xyz="0 0 1"/>
      <limit effort="0" lower="-0.2" upper="0.2" velocity="1.0"/>
   </joint>
   <joint name="ThoraxRFFoot_J1" type="revolute">
      <parent link="RFShank"/>
      <child link="ThoraxRFFoot_J1"/>
      <origin rpy="0 0 0" xyz="-0.0347 -0.0205 -0.0847"/>
      <axis xyz="1 0 0"/>
      <limit effort="0" lower="-0.4" upper="0.4" velocity="1.0"/>
   </joint>
   <joint name="ThoraxRFFoot_J2" type="revolute">
      <parent link="ThoraxRFFoot_J1"/>
      <child link="ThoraxRFFoot_J2"/>
      <origin rpy="0 0 0" xyz="0 0 0"/>
      <axis xyz="0 1 0"/>
      <limit effort="0" lower="-0.4" upper="0.4" velocity="1.0"/>
   </joint>
   <joint name="RFFoot" type="revolute">
      <parent link="ThoraxRFFoot_J2"/>
      <child link="RFFoot"/>
      <origin rpy="0 0 0" xyz="0 0 0"/>
      <axis xyz="0 0 1"/>
      <limit effort="0" lower="-0.2" upper="0.2" velocity="1.0"/>
   </joint>
   
   <joint name="ThoraxRMThigh_J1" type="revolute">
      <parent link="Thorax"/>
      <child link="ThoraxRMThigh_J1"/>
      <origin rpy="0 0 0" xyz="-0.07457 0.03980 0.19130"/>
      <axis xyz="1 0 0"/>
      <limit effort="0" lower="-0.4" upper="0.4" velocity="1.0"/>
   </joint>
   <joint name="ThoraxRMThigh_J2" type="revolute">
      <parent link="ThoraxRMThigh_J1"/>
      <child link="ThoraxRMThigh_J2"/>
      <origin rpy="0 0 0" xyz="0 0 0"/>
      <axis xyz="0 1 0"/>
      <limit effort="0" lower="-0.4" upper="0.4" velocity="1.0"/>
   </joint>
   <joint name="RMThigh" type="revolute">
      <parent link="ThoraxRMThigh_J2"/>
      <child link="RMThigh"/>
      <origin rpy="0 0 0" xyz="0 0 0"/>
      <axis xyz="0 0 1"/>
      <limit effort="0" lower="-0.2" upper="0.2" velocity="1.0"/>
   </joint>
   <joint name="ThoraxRMShank_J1" type="revolute">
      <parent link="RMThigh"/>
      <child link="ThoraxRMShank_J1"/>
      <origin rpy="0 0 0" xyz="-0.1387 0.0501 0.0266"/>
      <axis xyz="1 0 0"/>
      <limit effort="0" lower="-0.4" upper="0.4" velocity="1.0"/>
   </joint>
   <joint name="ThoraxRMShank_J2" type="revolute">
      <parent link="ThoraxRMShank_J1"/>
      <child link="ThoraxRMShank_J2"/>
      <origin rpy="0 0 0" xyz="0 0 0"/>
      <axis xyz="0 1 0"/>
      <limit effort="0" lower="-0.4" upper="0.4" velocity="1.0"/>
   </joint>
   <joint name="RMShank" type="revolute">
      <parent link="ThoraxRMShank_J2"/>
      <child link="RMShank"/>
      <origin rpy="0 0 0" xyz="0 0 0"/>
      <axis xyz="0 0 1"/>
      <limit effort="0" lower="-0.2" upper="0.2" velocity="1.0"/>
   </joint>
   <joint name="ThoraxRMFoot_J1" type="revolute">
      <parent link="RMShank"/>
      <child link="ThoraxRMFoot_J1"/>
      <origin rpy="0 0 0" xyz="-0.0427 0.0128 -0.0895"/>
      <axis xyz="1 0 0"/>
      <limit effort="0" lower="-0.4" upper="0.4" velocity="1.0"/>
   </joint>
   <joint name="ThoraxRMFoot_J2" type="revolute">
      <parent link="ThoraxRMFoot_J1"/>
      <child link="ThoraxRMFoot_J2"/>
      <origin rpy="0 0 0" xyz="0 0 0"/>
      <axis xyz="0 1 0"/>
      <limit effort="0" lower="-0.4" upper="0.4" velocity="1.0"/>
   </joint>
   <joint name="RMFoot" type="revolute">
      <parent link="ThoraxRMFoot_J2"/>
      <child link="RMFoot"/>
      <origin rpy="0 0 0" xyz="0 0 0"/>
      <axis xyz="0 0 1"/>
      <limit effort="0" lower="-0.2" upper="0.2" velocity="1.0"/>
   </joint>
   
   <joint name="ThoraxRBThigh_J1" type="revolute">
      <parent link="Thorax"/>
      <child link="ThoraxRBThigh_J1"/>
      <origin rpy="0 0 0" xyz="-0.06230 0.08906 0.18543"/>
      <axis xyz="1 0 0"/>
      <limit effort="0" lower="-0.4" upper="0.4" velocity="1.0"/>
   </joint>
   <joint name="ThoraxRBThigh_J2" type="revolute">
      <parent link="ThoraxRBThigh_J1"/>
      <child link="ThoraxRBThigh_J2"/>
      <origin rpy="0 0 0" xyz="0 0 0"/>
      <axis xyz="0 1 0"/>
      <limit effort="0" lower="-0.4" upper="0.4" velocity="1.0"/>
   </joint>
   <joint name="RBThigh" type="revolute">
      <parent link="ThoraxRBThigh_J2"/>
      <child link="RBThigh"/>
      <origin rpy="0 0 0" xyz="0 0 0"/>
      <axis xyz="0 0 1"/>
      <limit effort="0" lower="-0.2" upper="0.2" velocity="1.0"/>
   </joint>
   <joint name="ThoraxRBShank_J1" type="revolute">
      <parent link="RBThigh"/>
      <child link="ThoraxRBShank_J1"/>
      <origin rpy="0 0 0" xyz="-0.1239 0.1180 0.0334"/>
      <axis xyz="1 0 0"/>
      <limit effort="0" lower="-0.4" upper="0.4" velocity="1.0"/>
   </joint>
   <joint name="ThoraxRBShank_J2" type="revolute">
      <parent link="ThoraxRBShank_J1"/>
      <child link="ThoraxRBShank_J2"/>
      <origin rpy="0 0 0" xyz="0 0 0"/>
      <axis xyz="0 1 0"/>
      <limit effort="0" lower="-0.4" upper="0.4" velocity="1.0"/>
   </joint>
   <joint name="RBShank" type="revolute">
      <parent link="ThoraxRBShank_J2"/>
      <child link="RBShank"/>
      <origin rpy="0 0 0" xyz="0 0 0"/>
      <axis xyz="0 0 1"/>
      <limit effort="0" lower="-0.2" upper="0.2" velocity="1.0"/>
   </joint>
   <joint name="ThoraxRBFoot_J1" type="revolute">
      <parent link="RBShank"/>
      <child link="ThoraxRBFoot_J1"/>
      <origin rpy="0 0 0" xyz="-0.0385 0.0344 -0.0907"/>
      <axis xyz="1 0 0"/>
      <limit effort="0" lower="-0.4" upper="0.4" velocity="1.0"/>
   </joint>
   <joint name="ThoraxRBFoot_J2" type="revolute">
      <parent link="ThoraxRBFoot_J1"/>
      <child link="ThoraxRBFoot_J2"/>
      <origin rpy="0 0 0" xyz="0 0 0"/>
      <axis xyz="0 1 0"/>
      <limit effort="0" lower="-0.4" upper="0.4" velocity="1.0"/>
   </joint>
   <joint name="RBFoot" type="revolute">
      <parent link="ThoraxRBFoot_J2"/>
      <child link="RBFoot"/>
      <origin rpy="0 0 0" xyz="0 0 0"/>
      <axis xyz="0 0 1"/>
      <limit effort="0" lower="-0.2" upper="0.2" velocity="1.0"/>
   </joint>

 <!-- end-effector spheres -->
  <joint name="LFFootSphere" type="fixed">
      <parent link="LFFoot"/>
      <child link="LFFootSphere"/>
      <origin rpy="0 0 0" xyz="0.0724 -0.0430 -0.118"/> <!-- z - 0.002 -->
  </joint>
  <joint name="LMFootSphere" type="fixed">
      <parent link="LMFoot"/>
      <child link="LMFootSphere"/>
      <origin rpy="0 0 0" xyz="0.0925 0.0314 -0.1266"/>
  </joint>
  <joint name="LBFootSphere" type="fixed">
      <parent link="LBFoot"/>
      <child link="LBFootSphere"/>
      <origin rpy="0 0 0" xyz="0.0840 0.0771 -0.1303"/>
  </joint>
  <joint name="RFFootSphere" type="fixed">
      <parent link="RFFoot"/>
      <child link="RFFootSphere"/>
      <origin rpy="0 0 0" xyz="-0.0729 -0.0412 -0.1177"/>
  </joint>
  <joint name="RMFootSphere" type="fixed">
      <parent link="RMFoot"/>
      <child link="RMFootSphere"/>
      <origin rpy="0 0 0" xyz="-0.0923 0.0307 -0.1263"/>
  </joint>
  <joint name="RBFootSphere" type="fixed">
      <parent link="RBFoot"/>
      <child link="RBFootSphere"/>
      <origin rpy="0 0 0" xyz="-0.0852 0.0768 -0.1296"/>
  </joint>
</robot>
